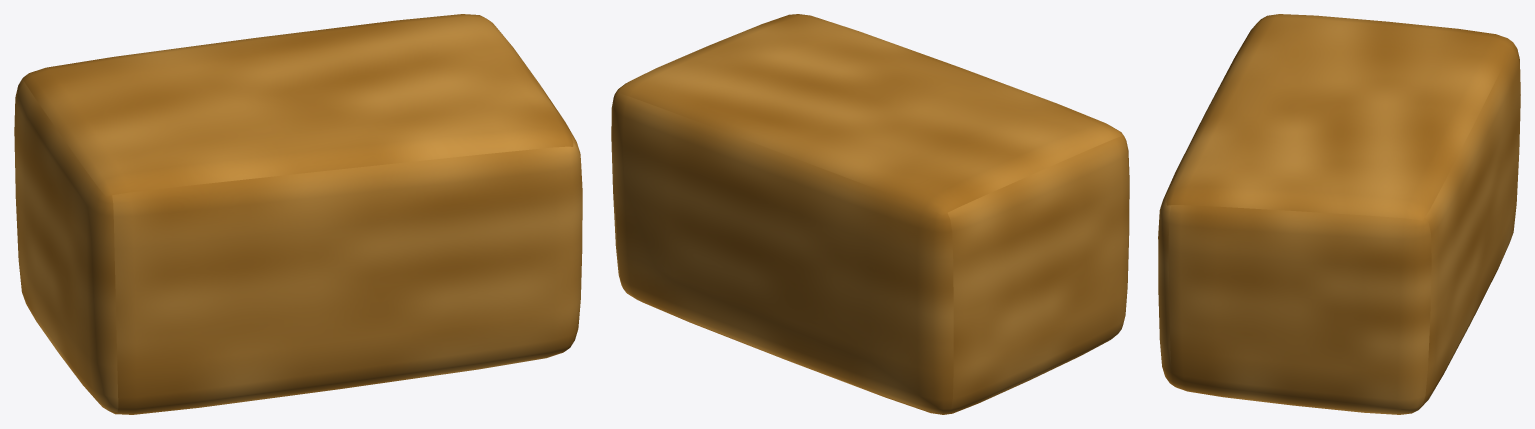
Rendered from Injeolmi.fbx.
The picture shows the model from 3 angles, left to right: view 1: azimuth 30°, elevation 25°; view 2: azimuth 150°, elevation 25°; view 3: azimuth 270°, elevation 25°; orthographic projection. The views are drawn at different scales.
Parts seen in each view (by area): view 1: Injeolmi; view 2: Injeolmi; view 3: Injeolmi.
Part boxes in pixels (x1,y1,x2,y2): Injeolmi: [14, 14, 582, 414]; Injeolmi: [611, 14, 1129, 414]; Injeolmi: [1158, 14, 1520, 414].
Size of the model in its own units: 1.09 by 0.5403 by 0.7974.
Materials: 1 (1 with a texture image).
